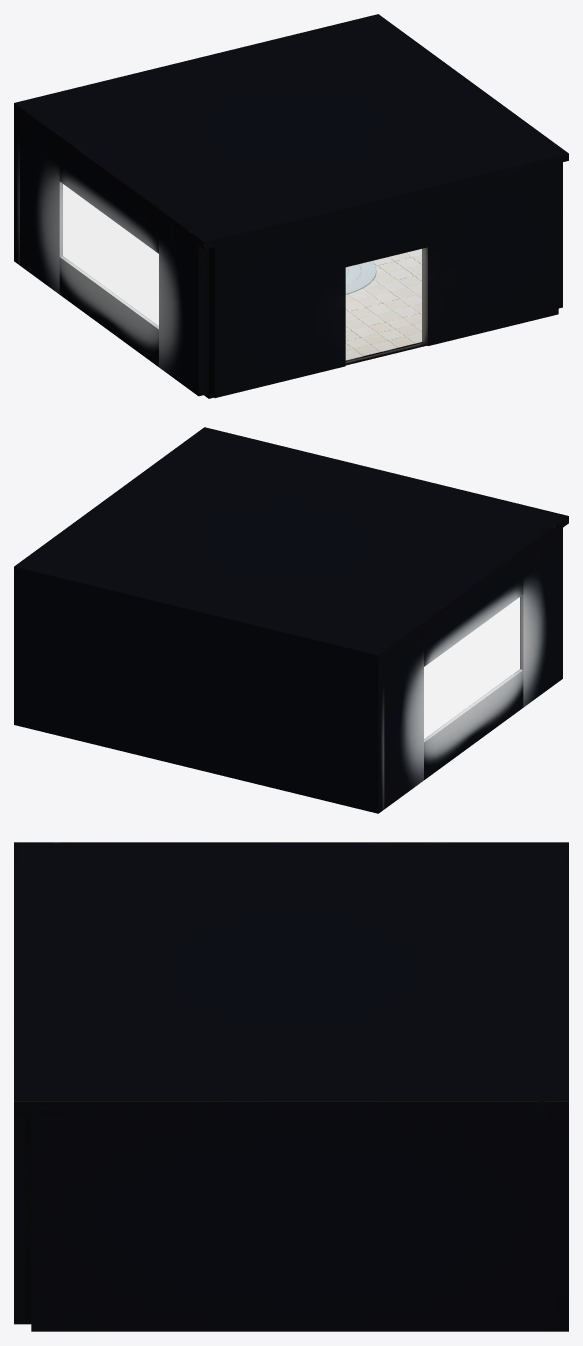
Rendered from room_ocean_m.glb.
The picture shows the model from 3 angles, top to bottom: view 1: azimuth 30°, elevation 25°; view 2: azimuth 150°, elevation 25°; view 3: azimuth 270°, elevation 25°; orthographic projection. The views are drawn at different scales.
Visible parts, largest first — view 1: baked_ceiling, baked_walls, window_glass, baked_floor, baked_furn; view 2: baked_walls, baked_ceiling, window_glass; view 3: baked_ceiling, baked_walls.
Part boxes in pixels (bbox=[...]): baked_ceiling: bbox=[14, 14, 568, 249]; baked_walls: bbox=[14, 110, 562, 397]; window_glass: bbox=[63, 184, 158, 325]; baked_floor: bbox=[204, 249, 426, 398]; baked_furn: bbox=[345, 261, 375, 294]; baked_walls: bbox=[14, 528, 562, 813]; baked_ceiling: bbox=[14, 427, 568, 662]; window_glass: bbox=[424, 597, 519, 738]; baked_ceiling: bbox=[14, 842, 568, 1111]; baked_walls: bbox=[14, 1111, 568, 1331].
Bounding box in the file's own units: 10.6 × 4.54 × 9.6.
Materials: 6 (4 with a texture image).
